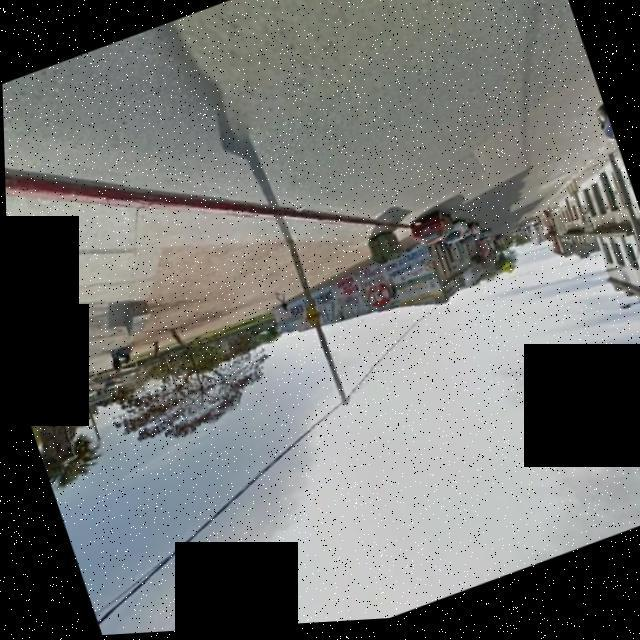bin: (353, 217, 411, 277)
